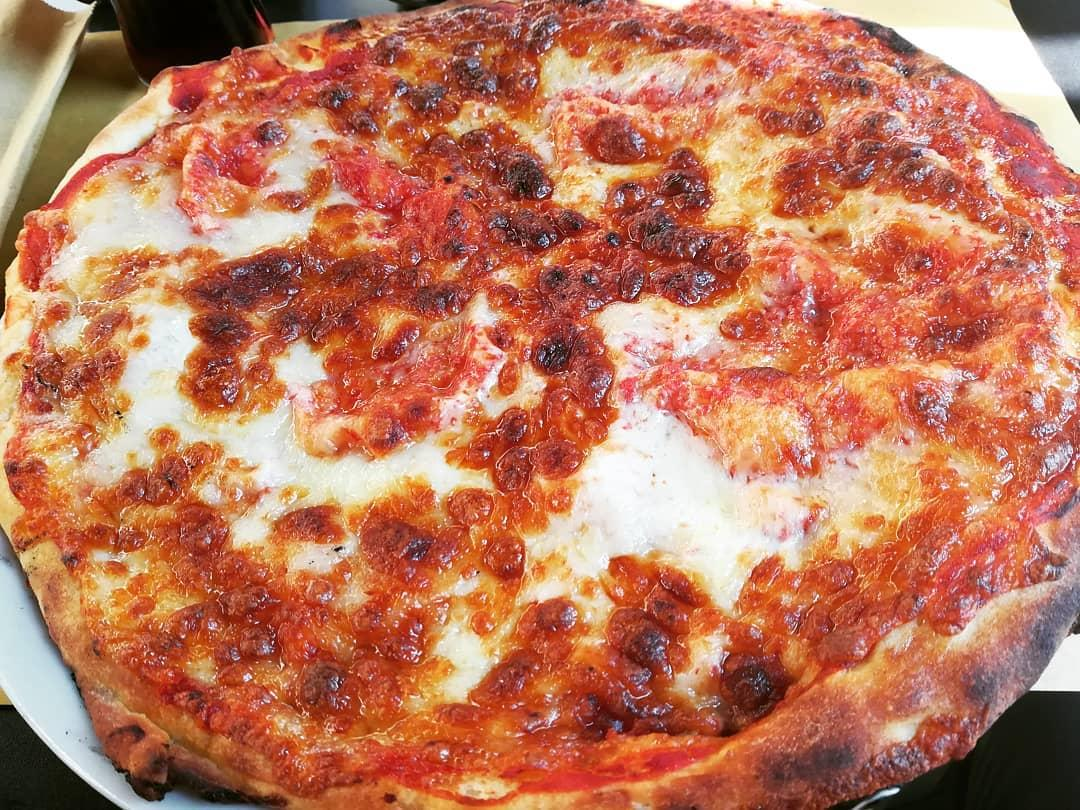Cheese: (585, 427, 738, 587), (233, 409, 374, 556), (748, 466, 934, 559), (233, 121, 328, 256), (113, 329, 202, 471), (707, 113, 785, 237), (78, 186, 205, 253), (552, 49, 723, 93)
Pizza: (2, 9, 1080, 810)
